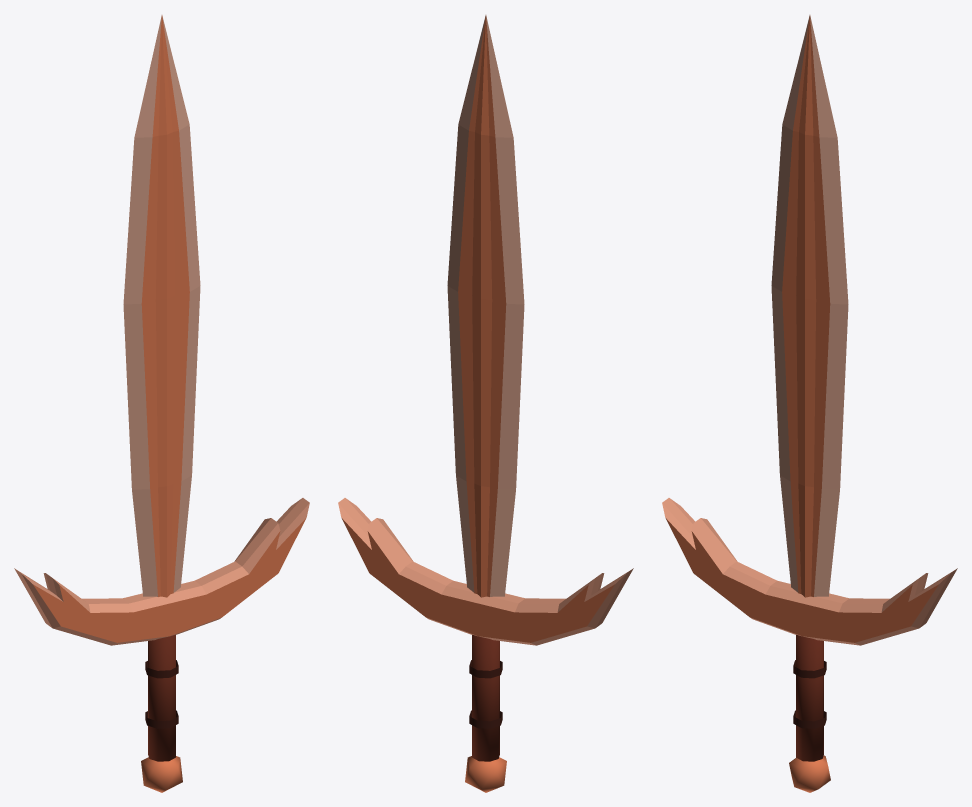
Rendered from palladium_shortsword.glb.
The picture shows the model from 3 angles, left to right: view 1: azimuth 30°, elevation 25°; view 2: azimuth 150°, elevation 25°; view 3: azimuth 330°, elevation 25°; orthographic projection.
Visible parts, largest first — view 1: palladium_shortsword_v0; view 2: palladium_shortsword_v0; view 3: palladium_shortsword_v0.
Boxes of the visible parts, x1=… form: palladium_shortsword_v0: x1=14, y1=15, x2=309, y2=792; palladium_shortsword_v0: x1=338, y1=15, x2=633, y2=792; palladium_shortsword_v0: x1=662, y1=15, x2=957, y2=792.
Size of the model in its own units: 0.48 by 1.24 by 0.0578.
